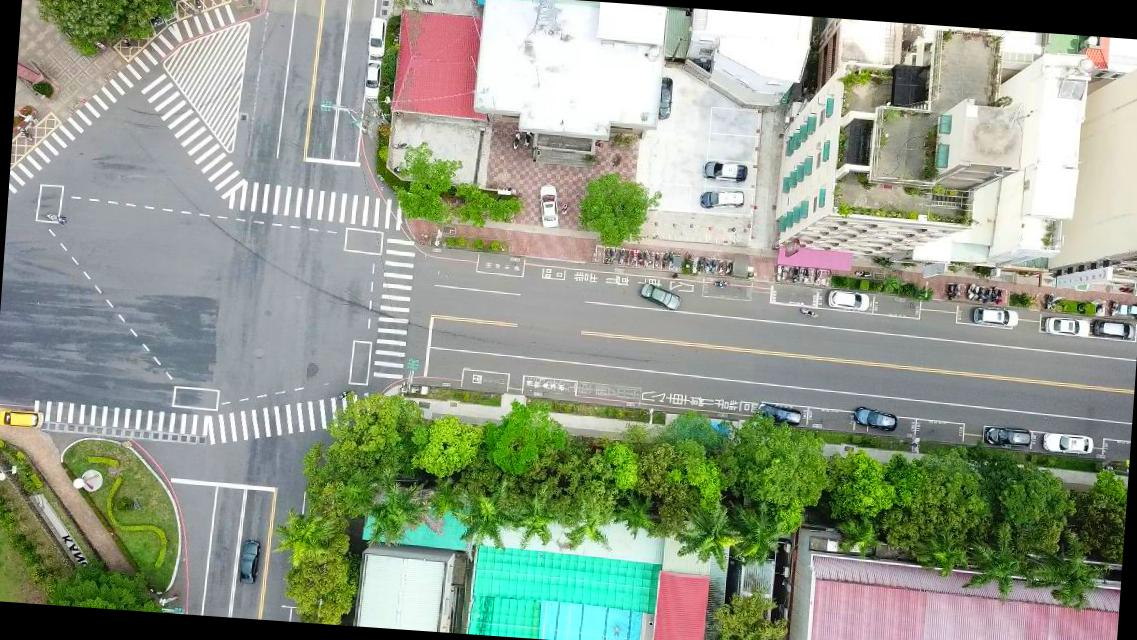vehicle: (637, 281, 682, 312), (851, 404, 898, 432), (1041, 430, 1094, 454), (698, 188, 744, 214), (536, 183, 562, 228), (970, 305, 1018, 329), (1042, 314, 1090, 338), (238, 538, 262, 585), (825, 289, 870, 314), (755, 401, 800, 426), (982, 426, 1032, 448), (0, 406, 44, 430), (702, 160, 748, 182), (1091, 320, 1134, 340), (366, 16, 386, 58), (658, 74, 675, 120), (363, 58, 380, 98)
